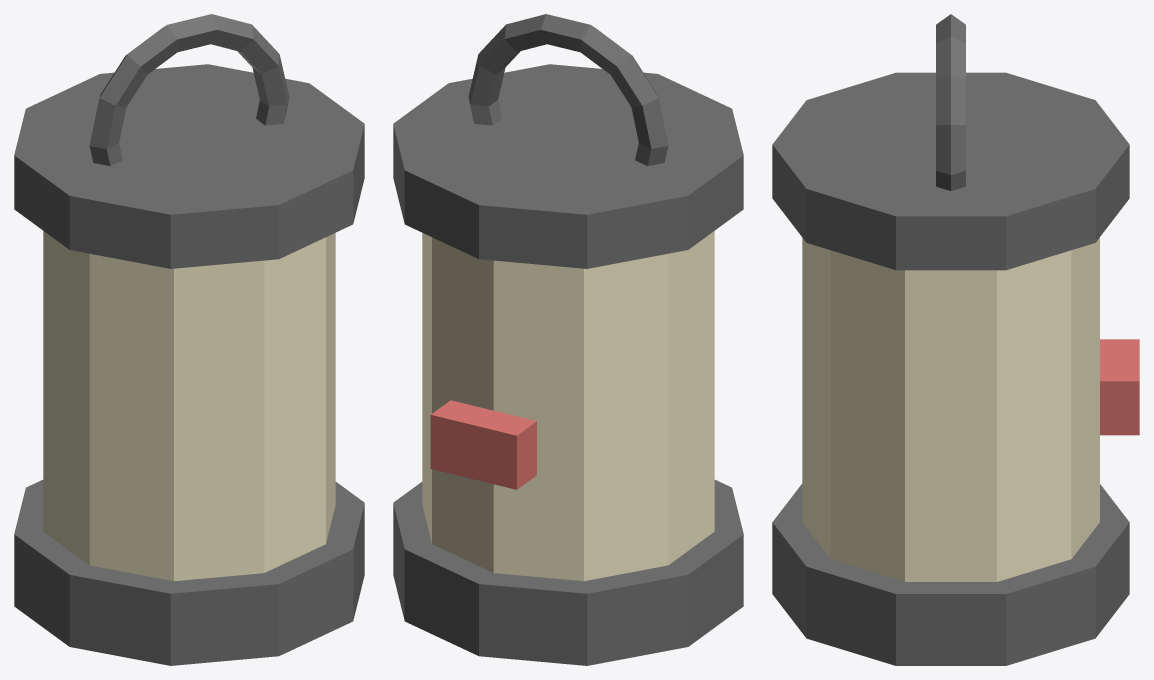
The model's file is rechargeable-lantern.glb.
The picture shows the model from 3 angles, left to right: view 1: azimuth 30°, elevation 25°; view 2: azimuth 150°, elevation 25°; view 3: azimuth 270°, elevation 25°; orthographic projection.
Parts seen in each view (by area): view 1: rechargeable-lantern_Cylinder.001, rechargeable-lantern_Cylinder.002, rechargeable-lantern_Cylinder, rechargeable-lantern_Torus.004; view 2: rechargeable-lantern_Cylinder.001, rechargeable-lantern_Cylinder.002, rechargeable-lantern_Cylinder, rechargeable-lantern_Torus.004, rechargeable-lantern_Cube; view 3: rechargeable-lantern_Cylinder.001, rechargeable-lantern_Cylinder.002, rechargeable-lantern_Cylinder, rechargeable-lantern_Torus.004, rechargeable-lantern_Cube.
Boxes of the visible parts, box(x1,y1,x2,y2) form: rechargeable-lantern_Cylinder.001: box(43, 231, 335, 581); rechargeable-lantern_Cylinder.002: box(14, 64, 364, 268); rechargeable-lantern_Cylinder: box(14, 480, 364, 665); rechargeable-lantern_Torus.004: box(89, 14, 289, 165); rechargeable-lantern_Cylinder.001: box(422, 231, 714, 581); rechargeable-lantern_Cylinder.002: box(393, 64, 743, 268); rechargeable-lantern_Cylinder: box(393, 480, 743, 665); rechargeable-lantern_Torus.004: box(468, 14, 668, 165); rechargeable-lantern_Cube: box(430, 400, 536, 489); rechargeable-lantern_Cylinder.001: box(802, 237, 1099, 581); rechargeable-lantern_Cylinder.002: box(772, 72, 1129, 270); rechargeable-lantern_Cylinder: box(772, 484, 1129, 665); rechargeable-lantern_Torus.004: box(936, 14, 965, 190); rechargeable-lantern_Cube: box(1100, 339, 1139, 435).
Size of the model in its own units: 0.1712 by 0.3165 by 0.185.
